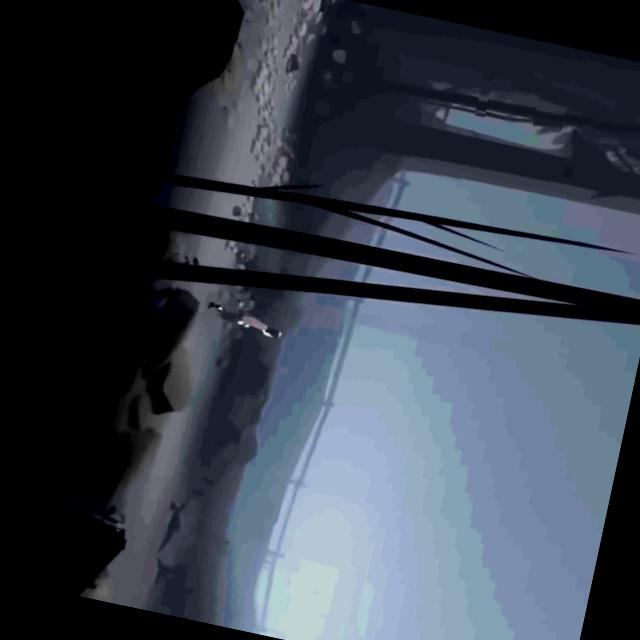boy: (208, 302, 285, 338)
